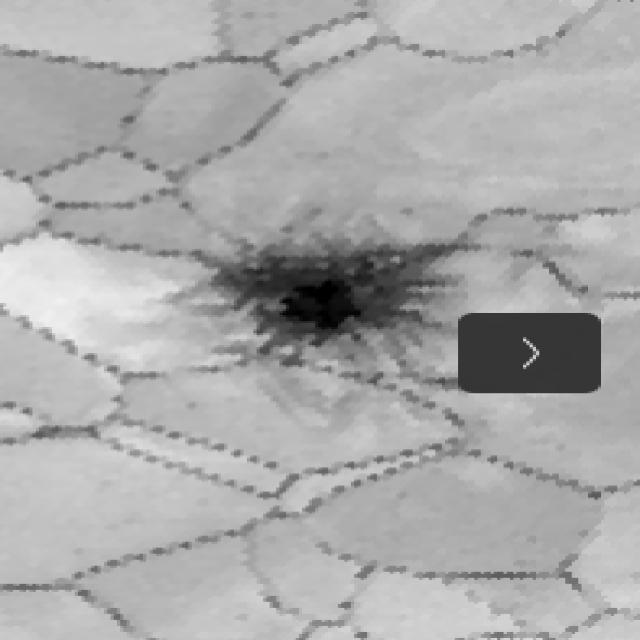good_void: (157, 202, 457, 387), (180, 398, 201, 412)
